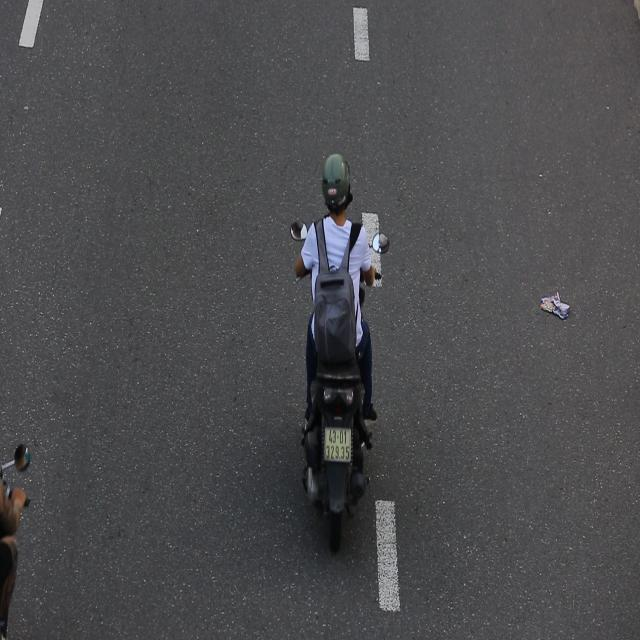motorbike: (278, 144, 398, 551)
